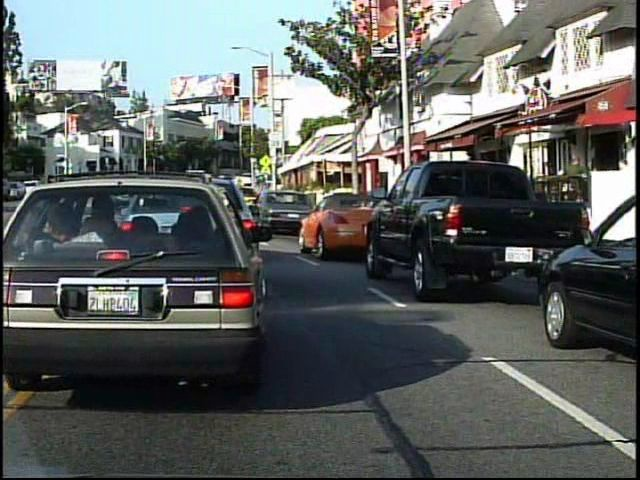person: (560, 149, 592, 224)
